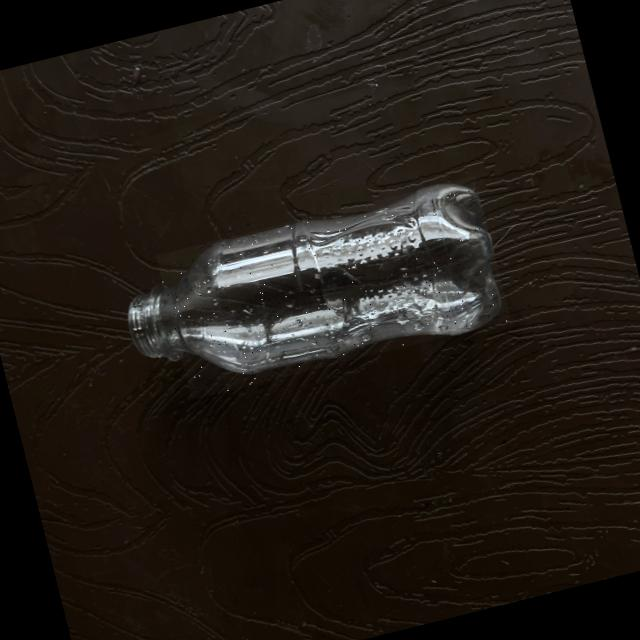PET_With_Liquid: (173, 184, 499, 371)
